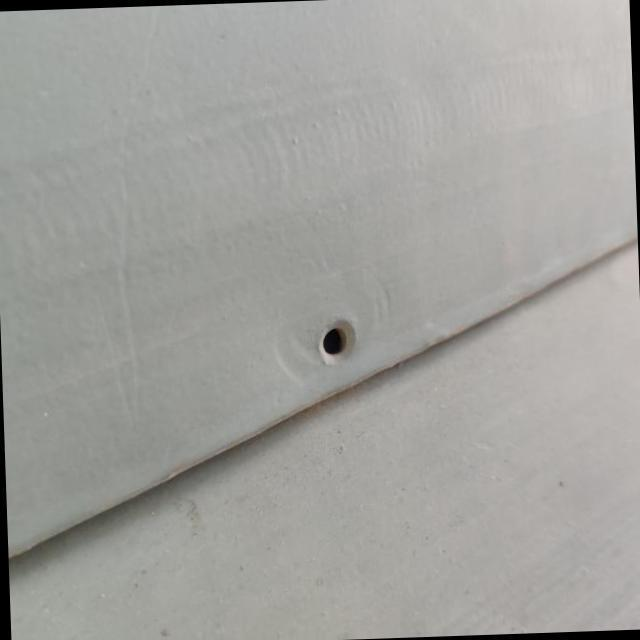Fastener Damage: (291, 290, 380, 379)
